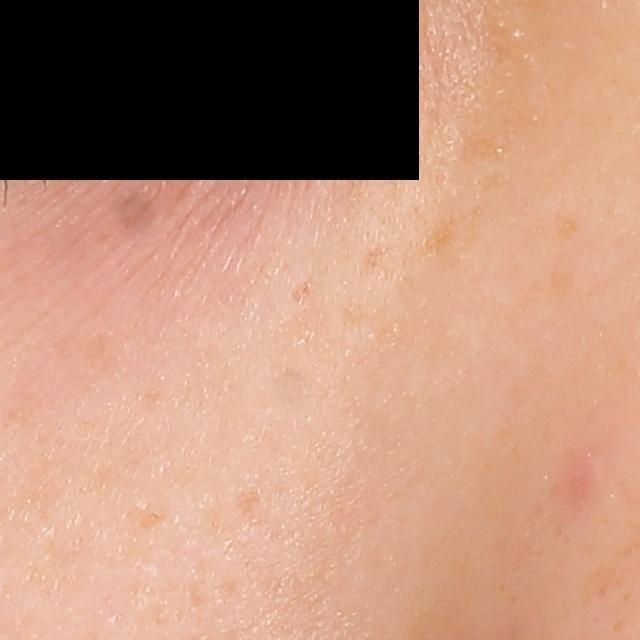melasma: (422, 213, 466, 259), (353, 248, 387, 280), (553, 209, 582, 241)
